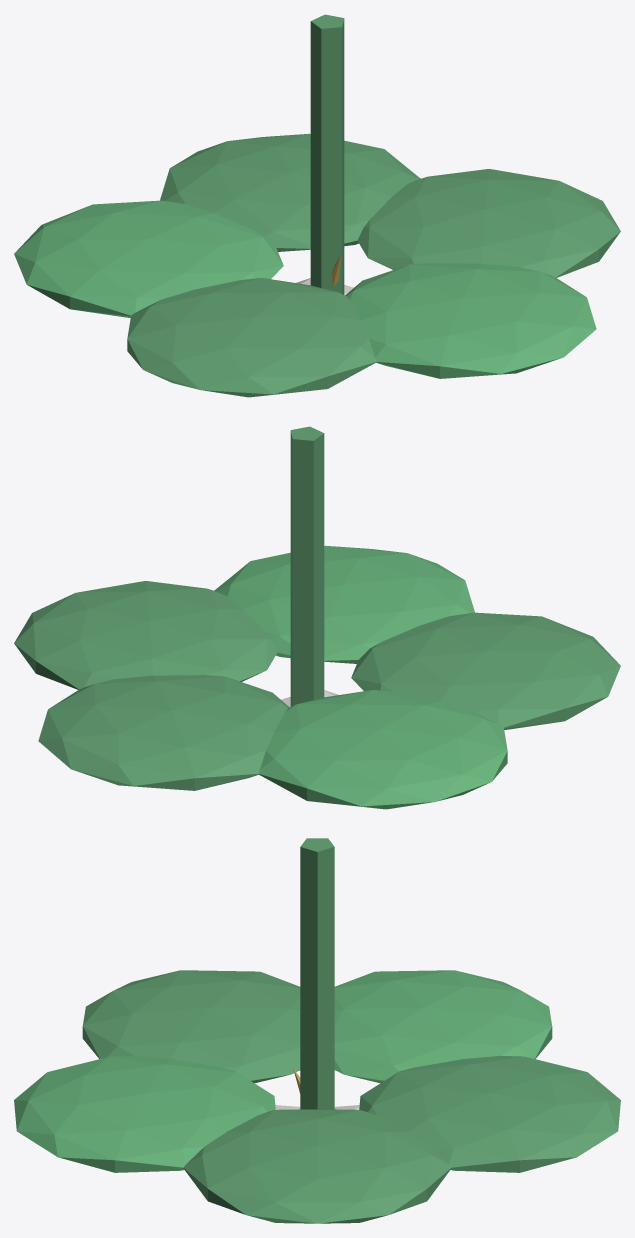
The model's file is marsilea-minuta.glb.
The picture shows the model from 3 angles, top to bottom: view 1: azimuth 30°, elevation 25°; view 2: azimuth 150°, elevation 25°; view 3: azimuth 270°, elevation 25°; orthographic projection.
Parts seen in each view (by area): view 1: pad2, pad1, pad3, pad0, pad4, stem; view 2: pad3, pad4, pad2, pad0, pad1, stem; view 3: pad0, pad1, pad4, pad3, pad2, stem.
Boxes of the visible parts, x1,y1,x2,y2 form: pad2: (127, 278, 376, 397); pad1: (345, 263, 596, 378); pad3: (14, 200, 283, 317); pad0: (357, 169, 620, 277); pad4: (160, 133, 420, 251); stem: (310, 14, 344, 294); pad3: (258, 690, 507, 809); pad4: (38, 675, 289, 790); pad2: (351, 612, 620, 729); pad0: (14, 581, 277, 689); pad1: (214, 545, 474, 663); stem: (290, 426, 324, 706); pad0: (183, 1109, 451, 1223); pad1: (14, 1055, 275, 1172); pad4: (359, 1055, 620, 1172); pad3: (334, 970, 552, 1083); pad2: (82, 970, 300, 1083); stem: (300, 838, 334, 1109).
Bounding box in the file's own units: 0.3968 × 0.2302 × 0.4031.
